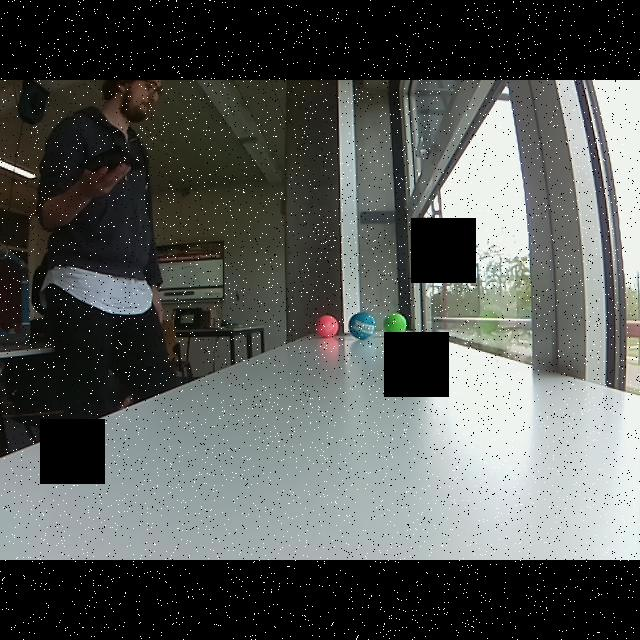ball: (382, 309, 410, 339), (314, 310, 340, 340)
